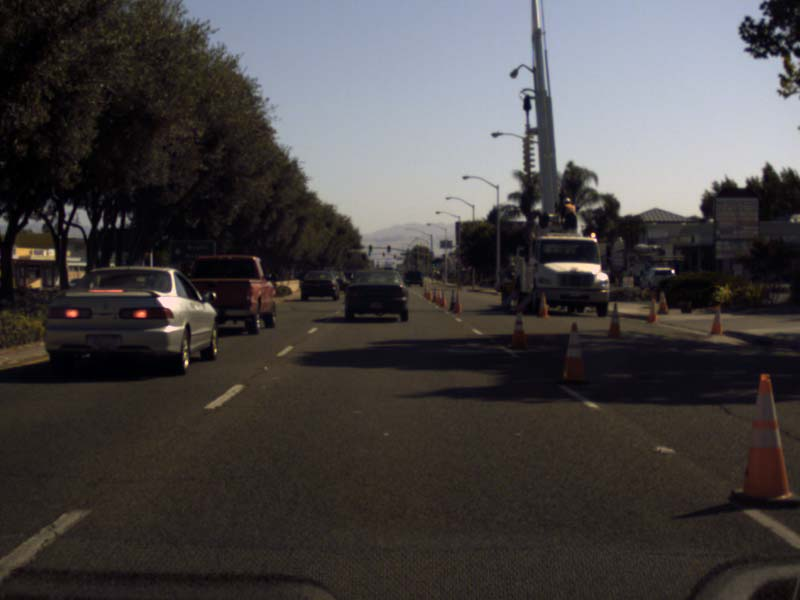Green: (431, 262, 434, 267), (435, 262, 438, 267)
